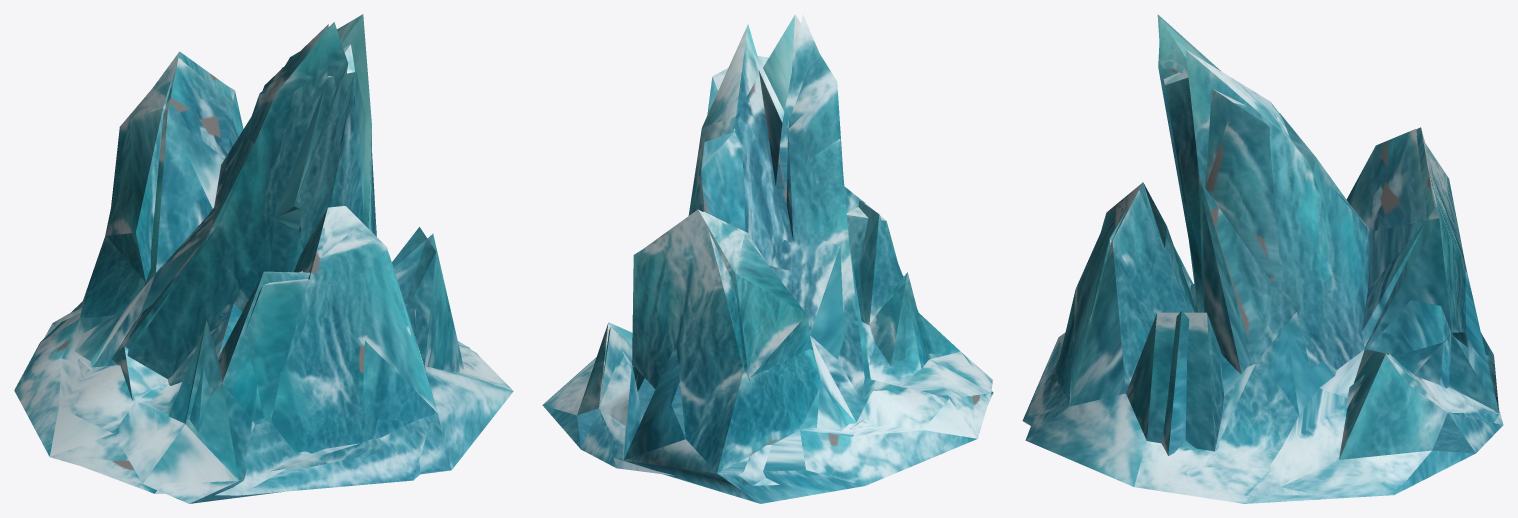
3 renders of one model, left to right at view 1: azimuth 30°, elevation 25°; view 2: azimuth 150°, elevation 25°; view 3: azimuth 270°, elevation 25°, orthographic. The views are drawn at different scales.
Visible parts, largest first — view 1: glacier-spires.002; view 2: glacier-spires.002; view 3: glacier-spires.002.
Part boxes in pixels (bbox=[...]): glacier-spires.002: bbox=[14, 14, 513, 503]; glacier-spires.002: bbox=[542, 14, 993, 503]; glacier-spires.002: bbox=[1022, 14, 1503, 503].
Bounding box in the file's own units: 14.41 × 13.13 × 14.23.
Materials: 1 (1 with a texture image).
